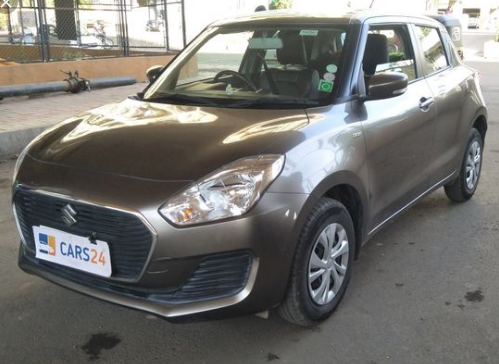car: (5, 12, 489, 334)
